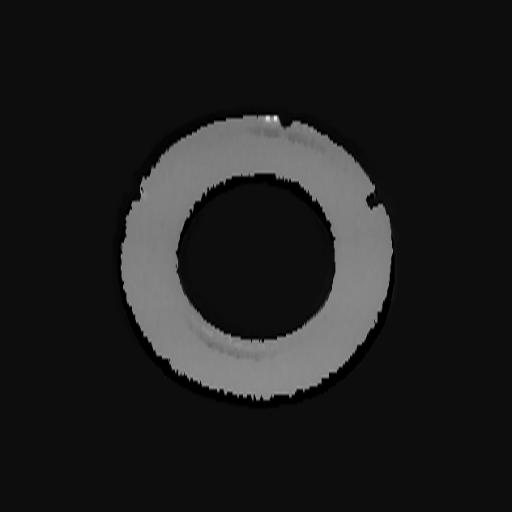defect: (366, 189, 383, 211), (278, 115, 294, 129)
